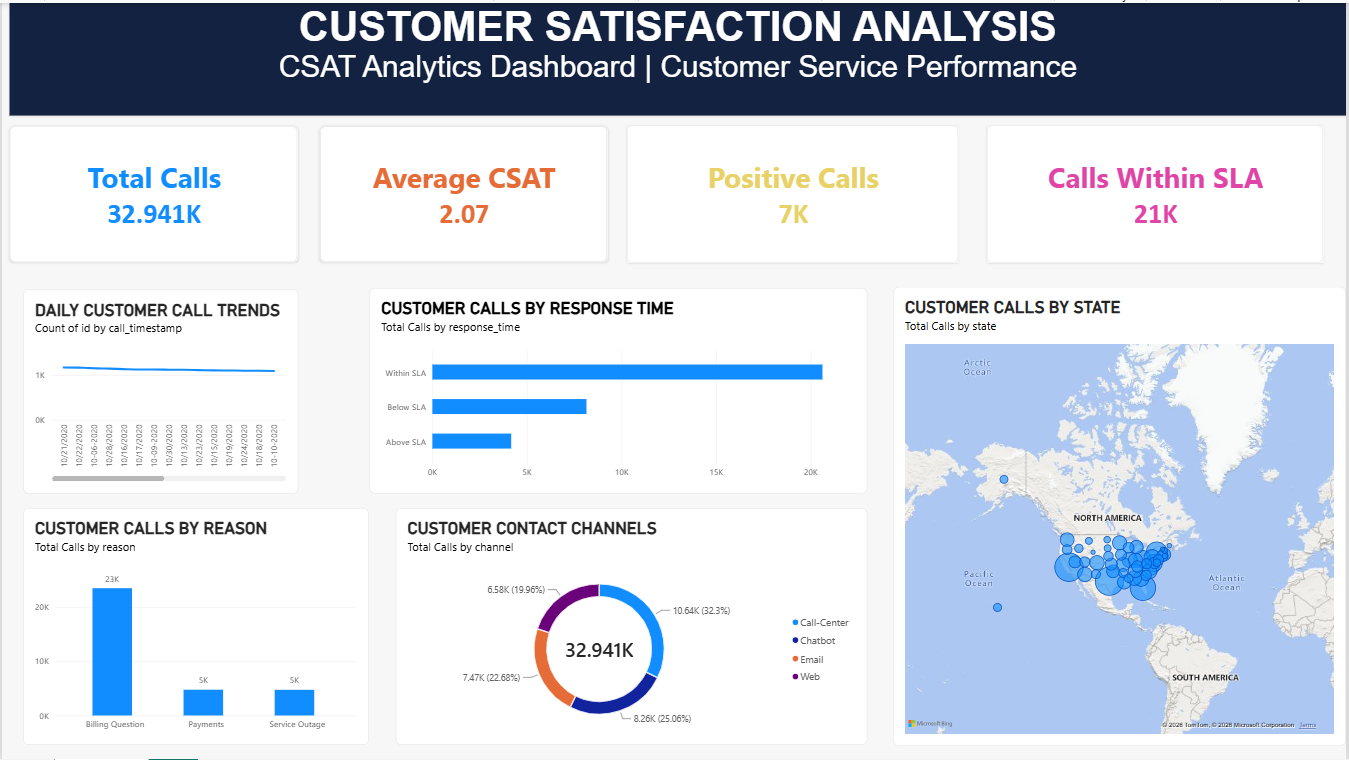

The dashboard page shown, as its layout file describes it:
{"tool":"powerbi","page":{"name":"Page 1","canvas":[1920,1080],"ordinal":0},"visuals":[{"type":"textbox","box":[10.4,0,1909.6,160.7],"z":0},{"type":"cardVisual","fields":{"Data":["CSAT.Average CSAT"]},"box":[453.9,174.7,412.5,196.3],"z":2000},{"type":"cardVisual","fields":{"Data":["CSAT.Positive Calls"]},"box":[893.4,174.7,473.7,196.3],"z":3000},{"type":"cardVisual","fields":{"Data":["CSAT.Calls Within SLA"]},"box":[1406.7,174.7,480.9,196.3],"z":4000},{"type":"lineChart","title":"DAILY CUSTOMER CALL TRENDS","fields":{"Category":["CSAT.call_timestamp"],"Y":["CountNonNull(CSAT.id)"]},"box":[30.6,408.9,392.6,291.8],"z":5000},{"type":"donutChart","title":"CUSTOMER CONTACT CHANNELS","fields":{"Category":["CSAT.channel"],"Y":["CSAT.Total Calls"]},"box":[562,722.3,673.6,338.6],"z":6000},{"type":"map","title":"CUSTOMER CALLS BY STATE","fields":{"Category":["CSAT.state"],"Size":["CSAT.Total Calls"]},"box":[1273.4,405.3,646.6,655.6],"z":7000},{"type":"clusteredColumnChart","title":"CUSTOMER CALLS BY REASON","fields":{"Category":["CSAT.reason"],"Y":["CSAT.Total Calls"]},"box":[30.6,722.3,493.5,338.6],"z":7001},{"type":"clusteredBarChart","title":"CUSTOMER CALLS BY RESPONSE TIME","fields":{"Category":["CSAT.response_time"],"Y":["CSAT.Total Calls"]},"box":[524.1,407.1,711.4,293.6],"z":7002},{"type":"cardVisual","fields":{"Data":["CSAT.Total Calls"]},"box":[10.8,174.7,412.5,196.3],"z":7003}]}

Visuals, with their boxes in screenshot pixels (x1, y1, x2, y2), scaled from the page's 1920x1080 canvas onto the 1349x760 screenshot:
textbox: region(7, 0, 1348, 113)
cardVisual - CSAT.Average CSAT: region(319, 123, 609, 261)
cardVisual - CSAT.Positive Calls: region(628, 123, 961, 261)
cardVisual - CSAT.Calls Within SLA: region(988, 123, 1326, 261)
"DAILY CUSTOMER CALL TRENDS" lineChart: region(21, 288, 297, 493)
"CUSTOMER CONTACT CHANNELS" donutChart: region(395, 508, 868, 747)
"CUSTOMER CALLS BY STATE" map: region(895, 285, 1348, 747)
"CUSTOMER CALLS BY REASON" clusteredColumnChart: region(21, 508, 368, 747)
"CUSTOMER CALLS BY RESPONSE TIME" clusteredBarChart: region(368, 286, 868, 493)
cardVisual - CSAT.Total Calls: region(8, 123, 297, 261)
